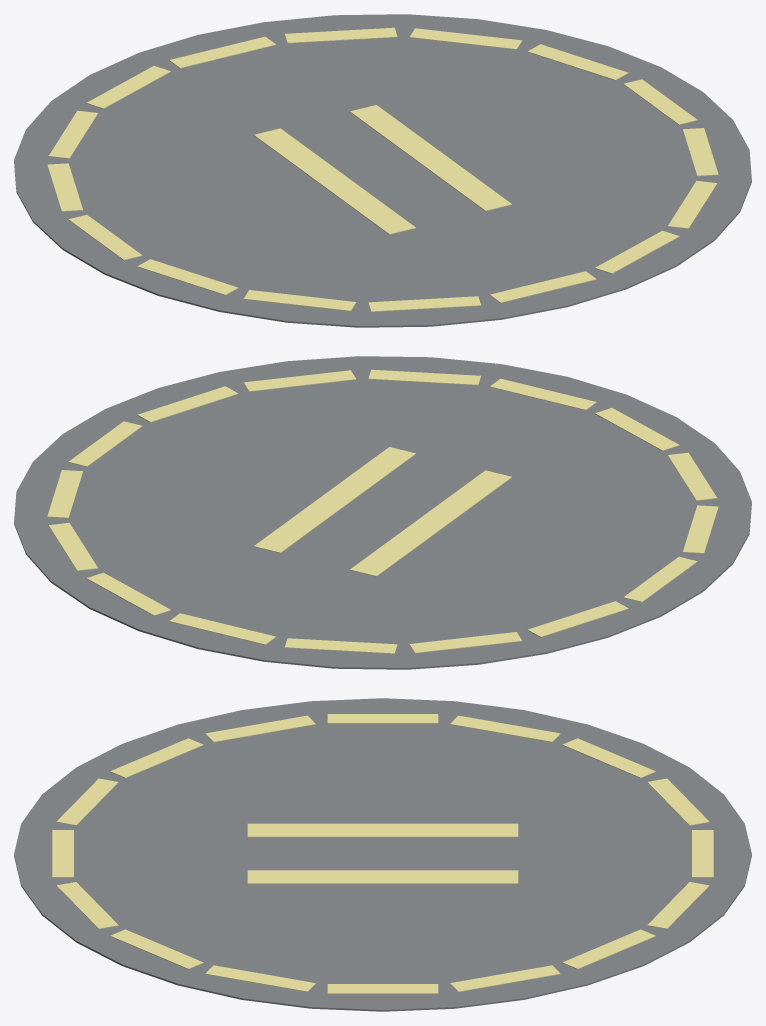
The model's file is pad.glb.
3 renders of one model, top to bottom at view 1: azimuth 30°, elevation 25°; view 2: azimuth 150°, elevation 25°; view 3: azimuth 270°, elevation 25°, orthographic.
Parts seen in each view (by area): view 1: pad; view 2: pad; view 3: pad.
Boxes of the visible parts, x1,y1,x2,y2 form: pad: (14,14,751,327); pad: (14,356,751,669); pad: (14,698,751,1011).
Bounding box in the file's own units: 12 × 0.042 × 12.
